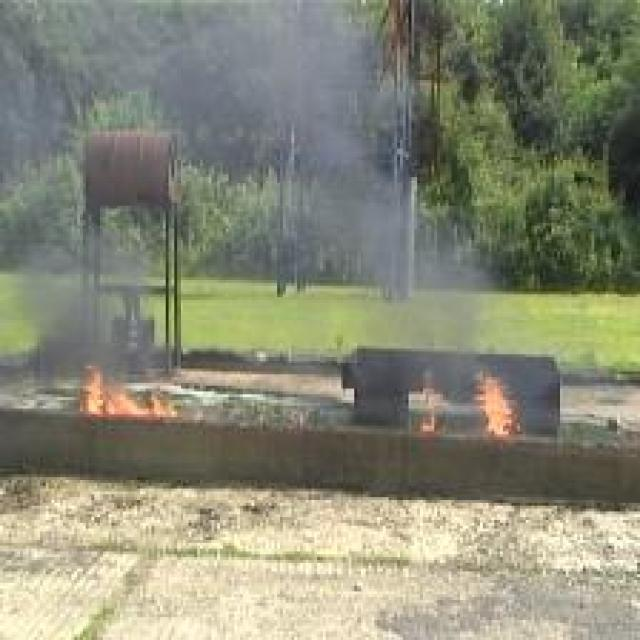Fire: (82, 366, 182, 418), (476, 370, 516, 436)
